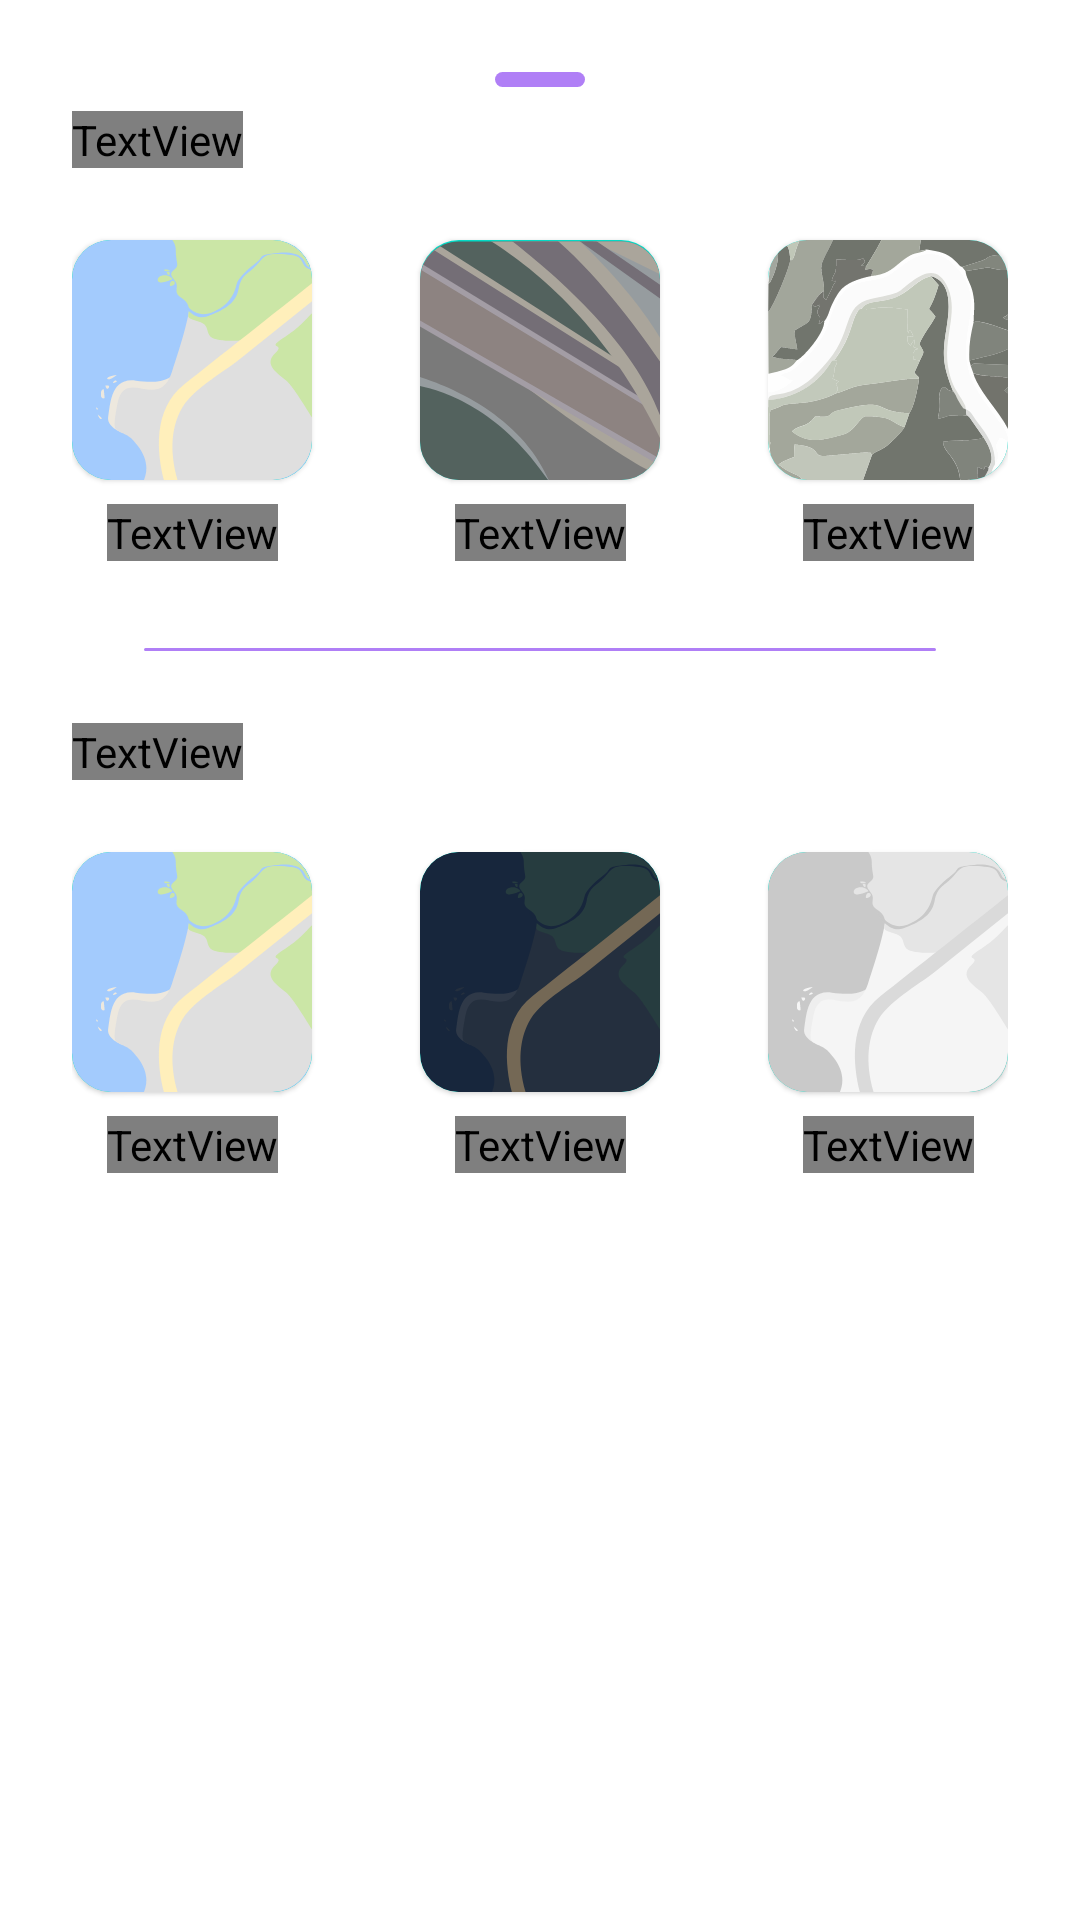

Locate icon controls on the screen. Image size 1080w x 1920h, boxes as (x1=x1, y1=y1, x2=x2, y2=y2).
map: (x1=72, y1=240, x2=312, y2=480), (x1=72, y1=852, x2=312, y2=1092)
map satellite: (x1=420, y1=240, x2=660, y2=480)
map style night: (x1=420, y1=852, x2=660, y2=1092)
map style silver: (x1=768, y1=852, x2=1008, y2=1092)
map terrain: (x1=768, y1=240, x2=1008, y2=480)
